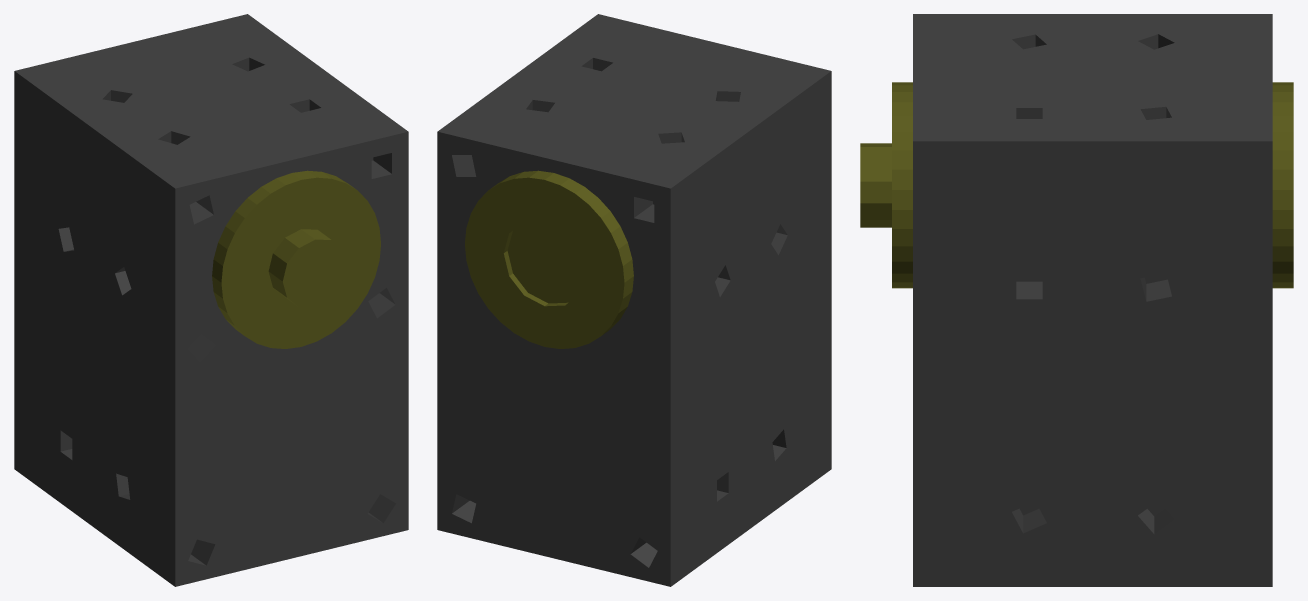
Rendered from xm430_dynamixel.dae.
3 views of the same model, side by side, from view 1: azimuth 30°, elevation 25°; view 2: azimuth 150°, elevation 25°; view 3: azimuth 270°, elevation 25° (orthographic). The views are drawn at different scales.
Parts seen in each view (by area): view 1: eus_glvertices (×2); view 2: eus_glvertices (×2); view 3: eus_glvertices (×3).
Boxes of the visible parts, x1,y1,x2,y2 form: eus_glvertices (×2): (14, 14, 408, 586); eus_glvertices (×2): (437, 14, 831, 586); eus_glvertices (×3): (860, 14, 1293, 586).
Bounding box in the file's own units: 0.0285 × 0.0465 × 0.041.
